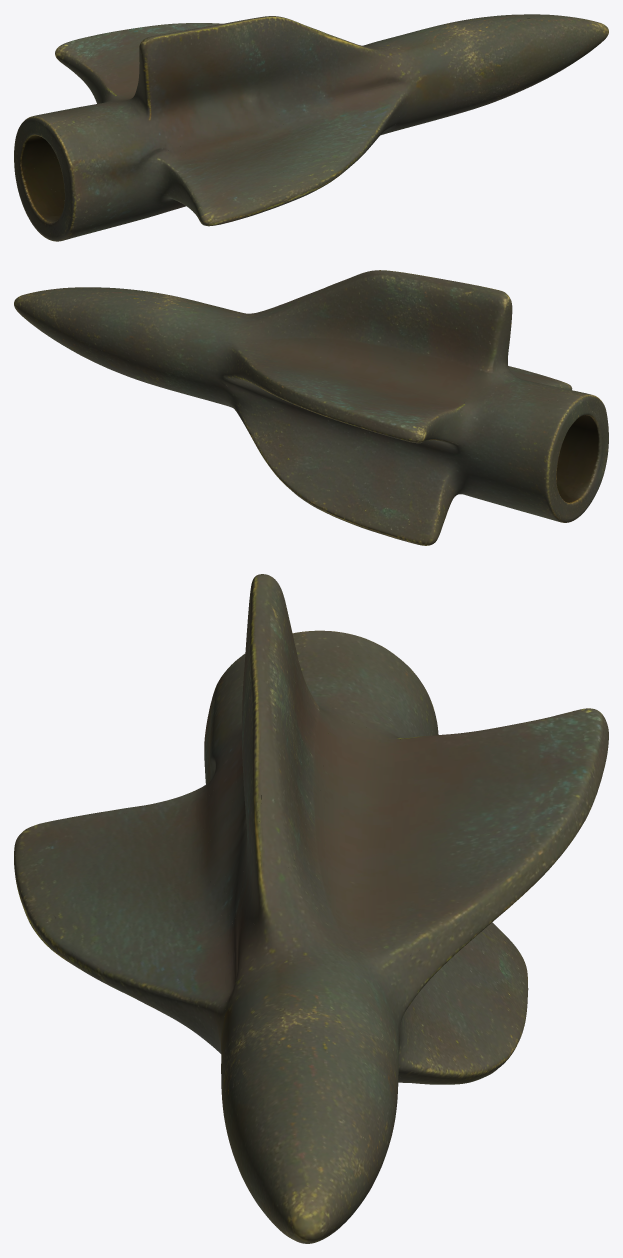
Rendered from arrow_head_opt.glb.
The picture shows the model from 3 angles, top to bottom: view 1: azimuth 30°, elevation 25°; view 2: azimuth 150°, elevation 25°; view 3: azimuth 270°, elevation 25°; orthographic projection. The views are drawn at different scales.
Visible parts, largest first — view 1: material; view 2: material; view 3: material.
Part boxes in pixels (<box>): material: <box>14,14,608,241</box>; material: <box>14,270,608,545</box>; material: <box>14,574,608,1243</box>.
Bounding box in the file's own units: 1.15 × 0.4018 × 0.5544.
Materials: 1 (1 with a texture image).
